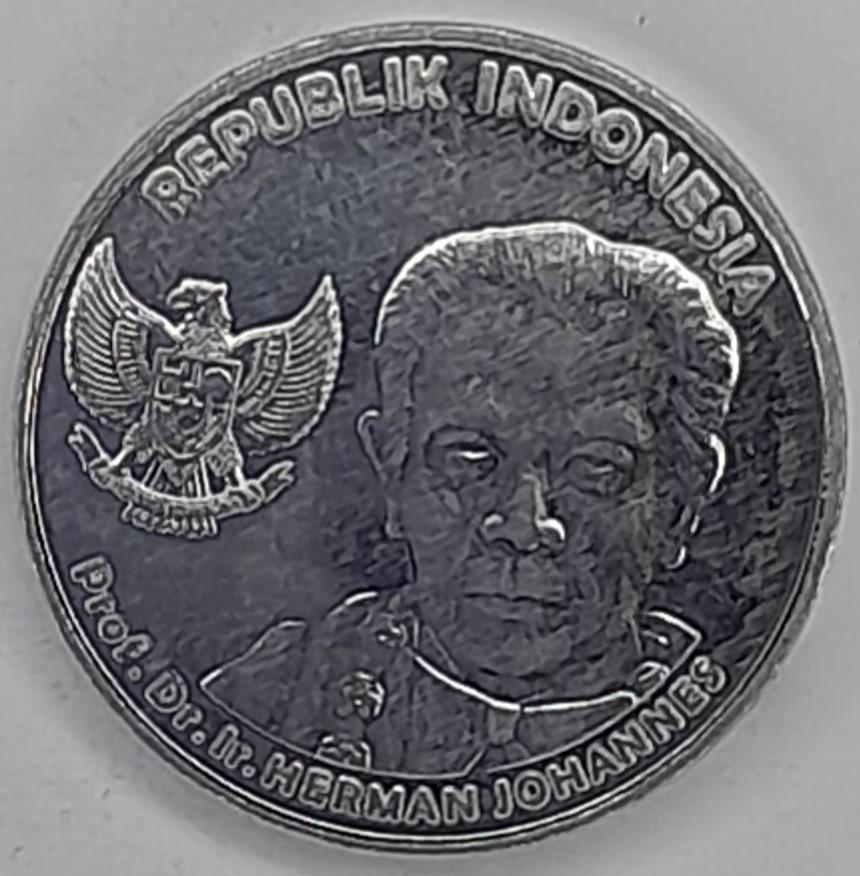coin_100_e2016: (9, 15, 854, 857)
